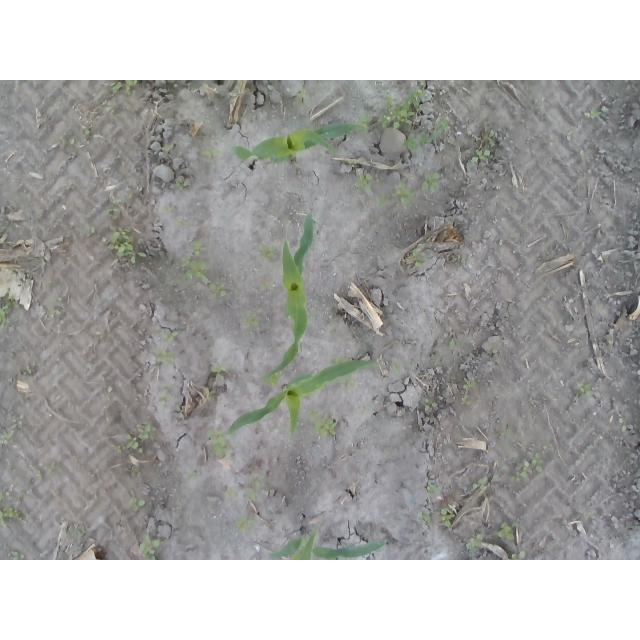Maize: (228, 359, 375, 448), (262, 213, 314, 379), (232, 123, 359, 165), (269, 525, 388, 560)
Weeds: (377, 81, 431, 132), (511, 441, 554, 483), (402, 116, 451, 150), (111, 223, 148, 265), (175, 255, 210, 289), (305, 406, 337, 439), (125, 419, 153, 455), (1, 415, 24, 450), (472, 130, 497, 162), (391, 180, 418, 209), (420, 167, 447, 194), (207, 431, 231, 460), (243, 471, 266, 501), (499, 428, 529, 448), (35, 463, 66, 482), (139, 534, 161, 560), (494, 521, 522, 541), (0, 506, 24, 529), (0, 297, 16, 330), (352, 174, 377, 194), (199, 144, 225, 161), (465, 527, 484, 550), (113, 80, 140, 96), (234, 515, 258, 533), (439, 506, 457, 530), (261, 369, 283, 388), (209, 282, 227, 305), (158, 384, 176, 403), (156, 351, 177, 367), (239, 312, 258, 329), (127, 496, 146, 513), (159, 329, 181, 343), (175, 175, 193, 192), (425, 479, 442, 497), (257, 240, 276, 256), (576, 382, 593, 399), (211, 364, 233, 377), (375, 190, 390, 209), (338, 376, 355, 392), (417, 510, 433, 527), (356, 111, 375, 125), (422, 397, 439, 411), (412, 249, 425, 267), (83, 127, 94, 146), (48, 306, 64, 319), (262, 80, 274, 97), (47, 269, 58, 287), (223, 485, 237, 499), (24, 360, 36, 376), (105, 208, 121, 220), (472, 477, 488, 489), (392, 360, 403, 377), (70, 527, 87, 538), (184, 471, 201, 481), (191, 240, 201, 257), (80, 223, 97, 233), (512, 550, 529, 560), (296, 85, 309, 98), (257, 280, 275, 289), (9, 550, 25, 560), (458, 252, 470, 265), (463, 396, 477, 407), (618, 416, 627, 433), (159, 206, 177, 214), (1, 490, 12, 503), (63, 184, 78, 193), (448, 339, 461, 348), (175, 217, 188, 226), (271, 171, 290, 177), (335, 356, 349, 364), (348, 159, 360, 168), (486, 344, 498, 353), (591, 111, 602, 120), (463, 383, 477, 390), (164, 145, 172, 152)
